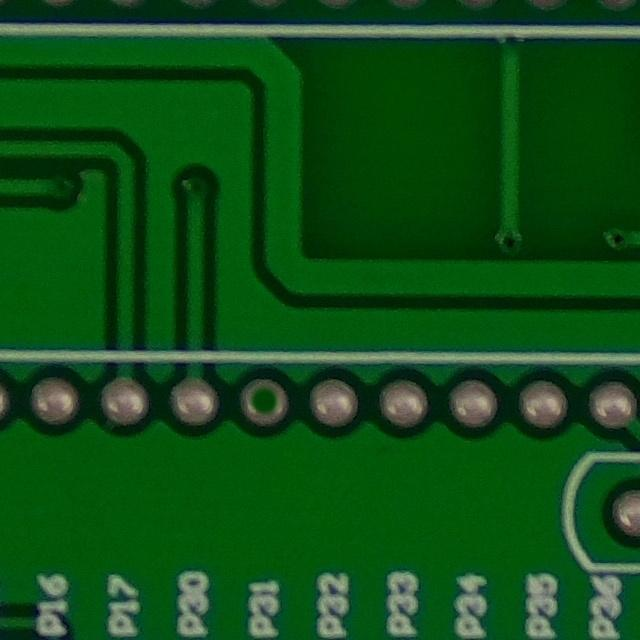missing_hole: (224, 364, 301, 438)
